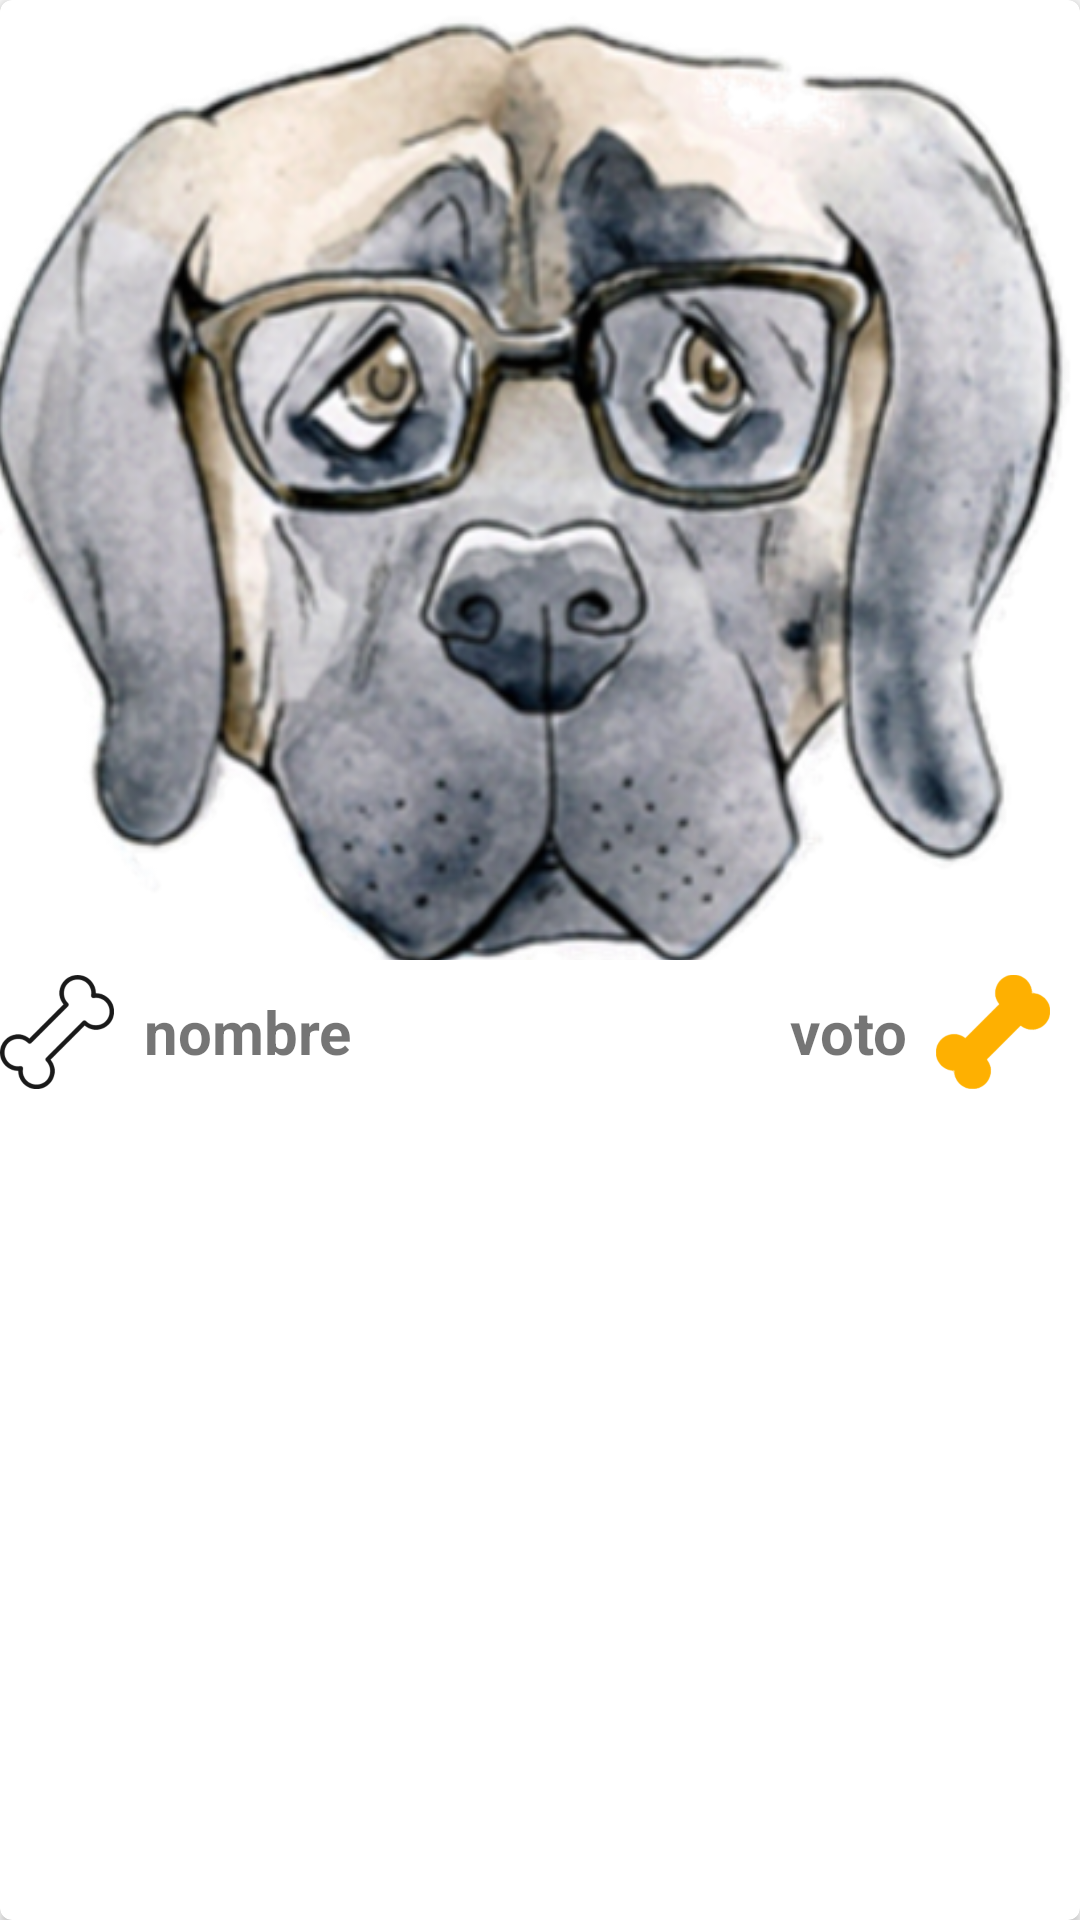

Icons on this 1080*1920 Android screen, each with its box as (x1, y1, x2, y2):
hueso amarillo: (936, 975, 1050, 1089)
hueso blanco: (0, 975, 114, 1089)
